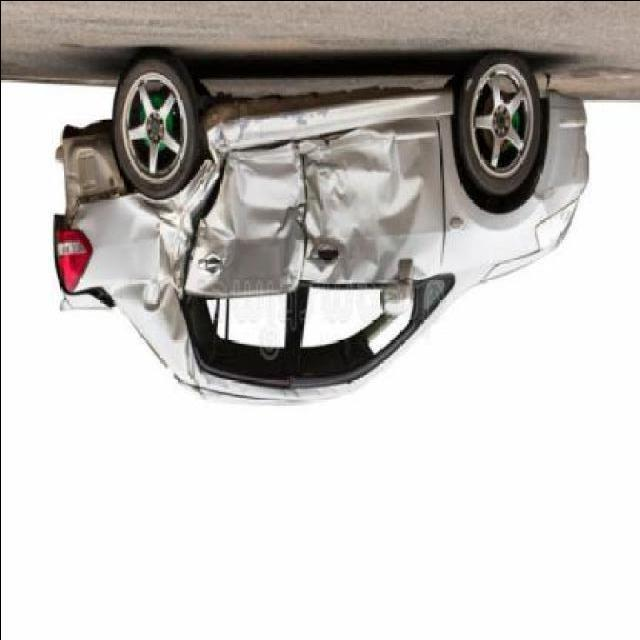RunningBoard-Dent: (289, 90, 451, 137), (200, 92, 311, 138)
doorouter-dent: (303, 124, 439, 297), (189, 137, 308, 298)
quaterpanel-dent: (115, 143, 182, 300)
